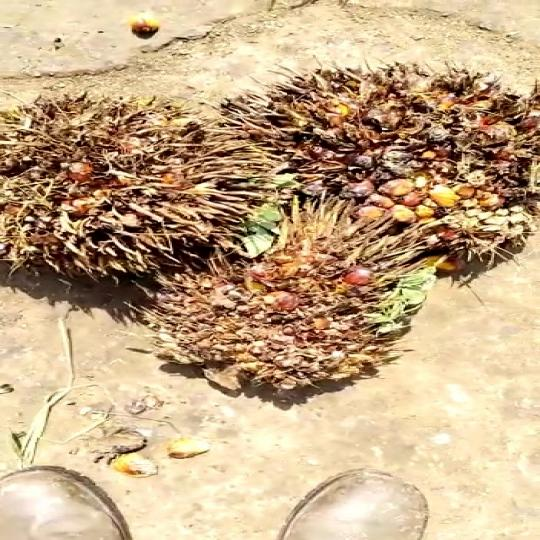terlalu masak: (236, 64, 539, 263), (128, 208, 440, 388), (0, 79, 253, 274)
